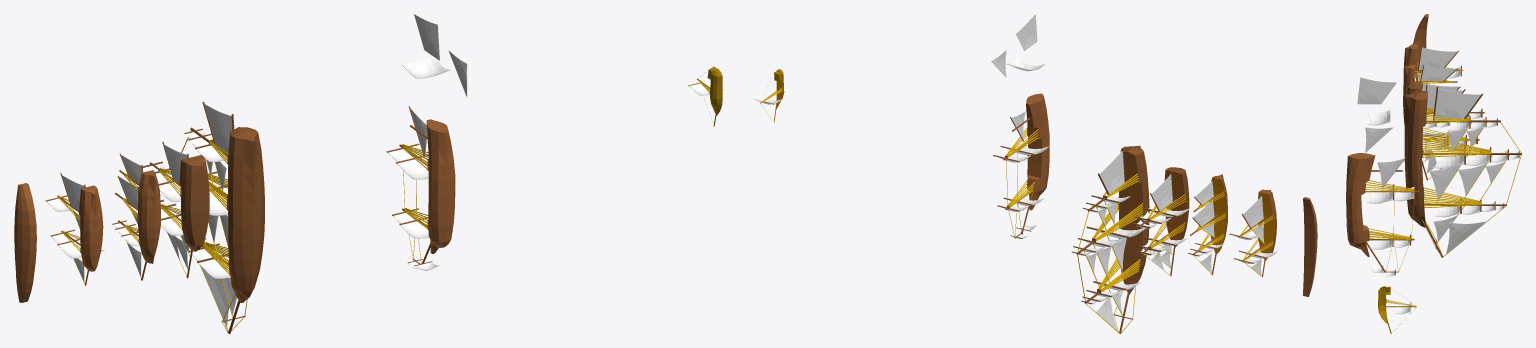
File: Ships.dae
3 views of the same model, side by side, from view 1: azimuth 30°, elevation 25°; view 2: azimuth 150°, elevation 25°; view 3: azimuth 270°, elevation 25° (orthographic). The views are drawn at different scales.
Visible parts, largest first — view 1: Frigate, Galleon, Brig, Barquentine, schooner, Brigantine, BackSail.005, BackSail, SmallShip, RectangularSail, TriangularSail.005; view 2: Frigate, Galleon, Brig, Barquentine, Brigantine, schooner, BackSail.005, BackSail, BackSail.001; view 3: Frigate, Galleon, BackSail.005, BackSail, Brig, TriangularSail.005, BackSail.002, Barquentine, SmallShip, TriangularSail.002, RectangularSail.001, schooner (+19 smaller).
Part boxes in pixels (left/top/right/bottom): Frigate: left=181, top=102, right=264, bottom=333; Galleon: left=386, top=106, right=455, bottom=266; Brig: left=142, top=141, right=209, bottom=278; Barquentine: left=112, top=153, right=160, bottom=280; schooner: left=14, top=183, right=36, bottom=302; Brigantine: left=45, top=173, right=103, bottom=285; BackSail.005: left=204, top=103, right=232, bottom=153; BackSail: left=414, top=14, right=439, bottom=60; SmallShip: left=688, top=66, right=722, bottom=126; RectangularSail: left=401, top=56, right=450, bottom=78; TriangularSail.005: left=201, top=266, right=230, bottom=326; Frigate: left=1071, top=145, right=1149, bottom=333; Galleon: left=993, top=93, right=1049, bottom=238; Brig: left=1132, top=167, right=1189, bottom=275; Barquentine: left=1188, top=174, right=1227, bottom=275; Brigantine: left=1229, top=189, right=1276, bottom=277; schooner: left=1303, top=197, right=1317, bottom=296; BackSail.005: left=1099, top=151, right=1124, bottom=193; BackSail: left=1016, top=14, right=1037, bottom=50; BackSail.001: left=1151, top=174, right=1172, bottom=210; Frigate: left=1404, top=86, right=1521, bottom=257; Galleon: left=1346, top=153, right=1418, bottom=275; BackSail.005: left=1434, top=88, right=1480, bottom=120; BackSail: left=1357, top=77, right=1396, bottom=104; Brig: left=1407, top=81, right=1484, bottom=180; TriangularSail.005: left=1446, top=221, right=1486, bottom=253; BackSail.002: left=1419, top=47, right=1456, bottom=69; Barquentine: left=1403, top=64, right=1460, bottom=152; SmallShip: left=1378, top=286, right=1416, bottom=333; TriangularSail.002: left=1429, top=165, right=1460, bottom=199; RectangularSail.001: left=1431, top=146, right=1464, bottom=168; schooner: left=1413, top=14, right=1428, bottom=81.
Size of the model in its own units: 125 by 35.95 by 53.88.
